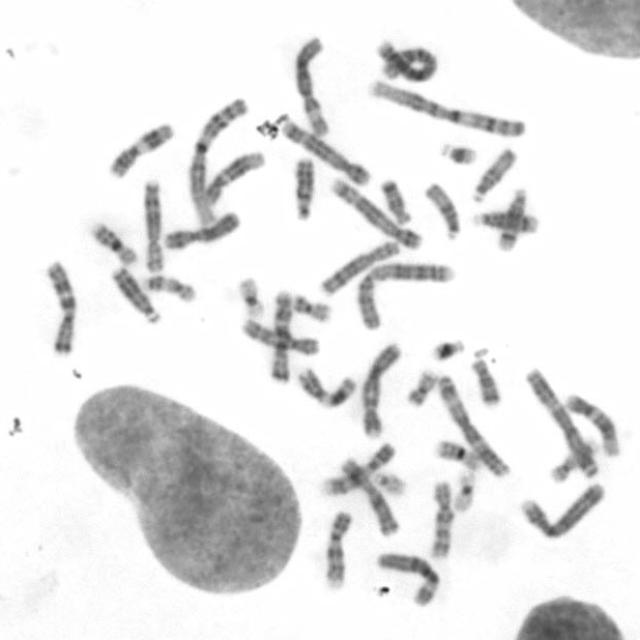A1: (365, 76, 527, 140), (184, 93, 250, 225)
A2: (351, 258, 457, 331), (374, 35, 440, 85)
A3: (522, 362, 600, 478), (434, 371, 513, 478)
B4: (515, 476, 607, 542), (355, 338, 403, 440)
B5: (328, 175, 424, 252), (276, 113, 373, 186)
C10: (237, 314, 321, 358), (424, 476, 454, 562)
C11: (104, 118, 176, 181), (293, 363, 357, 409)
C12: (562, 389, 620, 458), (201, 146, 266, 205)
C6: (290, 32, 331, 138), (373, 549, 441, 609)
C7: (40, 256, 79, 358), (266, 287, 292, 384)
C8: (315, 236, 402, 296), (138, 175, 164, 273)
C9: (317, 438, 397, 497), (318, 506, 354, 590)
D13: (108, 261, 162, 325), (289, 153, 316, 222)
D14: (493, 184, 530, 253), (468, 206, 540, 235)
D15: (468, 145, 518, 204), (421, 178, 462, 242)
E16: (88, 218, 140, 268), (433, 436, 482, 471)
E17: (546, 434, 598, 484), (141, 270, 198, 304)
E18: (467, 353, 502, 407), (377, 175, 412, 226)
F19: (234, 271, 267, 319), (449, 466, 478, 513)
F20: (403, 366, 440, 408), (290, 291, 333, 324)
G21: (436, 136, 481, 168), (427, 333, 467, 362)
G22: (370, 467, 408, 497)
X: (336, 452, 402, 538), (158, 207, 244, 252)
